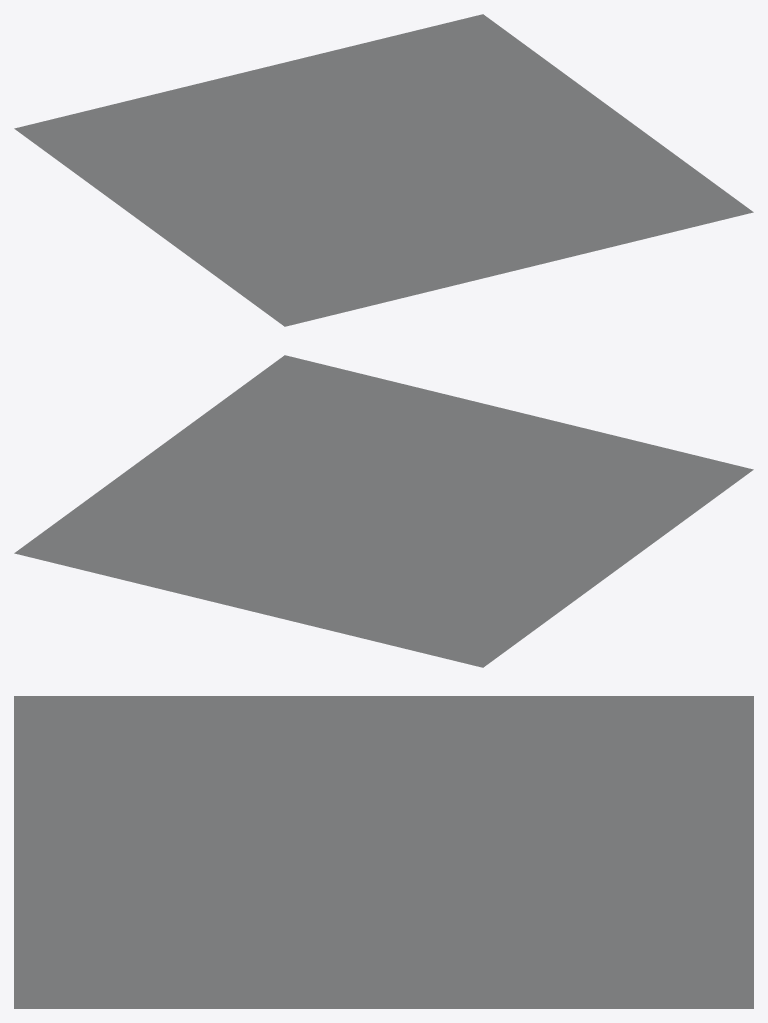
Rendered from Ceiling_type_B_014.glb.
3 renders of one model, top to bottom at view 1: azimuth 30°, elevation 25°; view 2: azimuth 150°, elevation 25°; view 3: azimuth 270°, elevation 25°, orthographic. The views are drawn at different scales.
Visible parts, largest first — view 1: Ceiling_type_B_014; view 2: Ceiling_type_B_014; view 3: Ceiling_type_B_014.
Boxes of the visible parts, bbox=[...] form: Ceiling_type_B_014: bbox=[14, 14, 753, 326]; Ceiling_type_B_014: bbox=[14, 355, 753, 667]; Ceiling_type_B_014: bbox=[14, 696, 753, 1008].
Size of the model in its own units: 4 by 0.057 by 4.
Materials: 2 (2 with a texture image).
